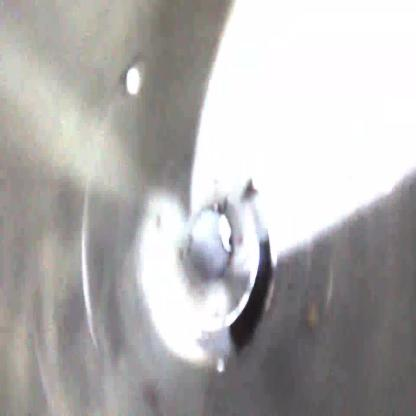Crack2: (224, 236, 273, 356)
